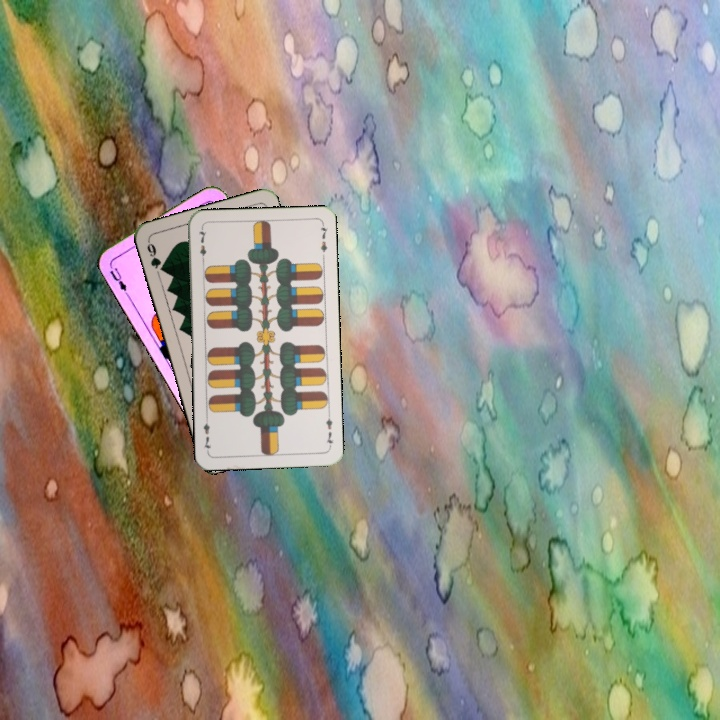E7: (195, 225, 209, 265), (322, 409, 335, 450)
EU: (105, 256, 130, 296)
G9: (143, 237, 168, 275)
